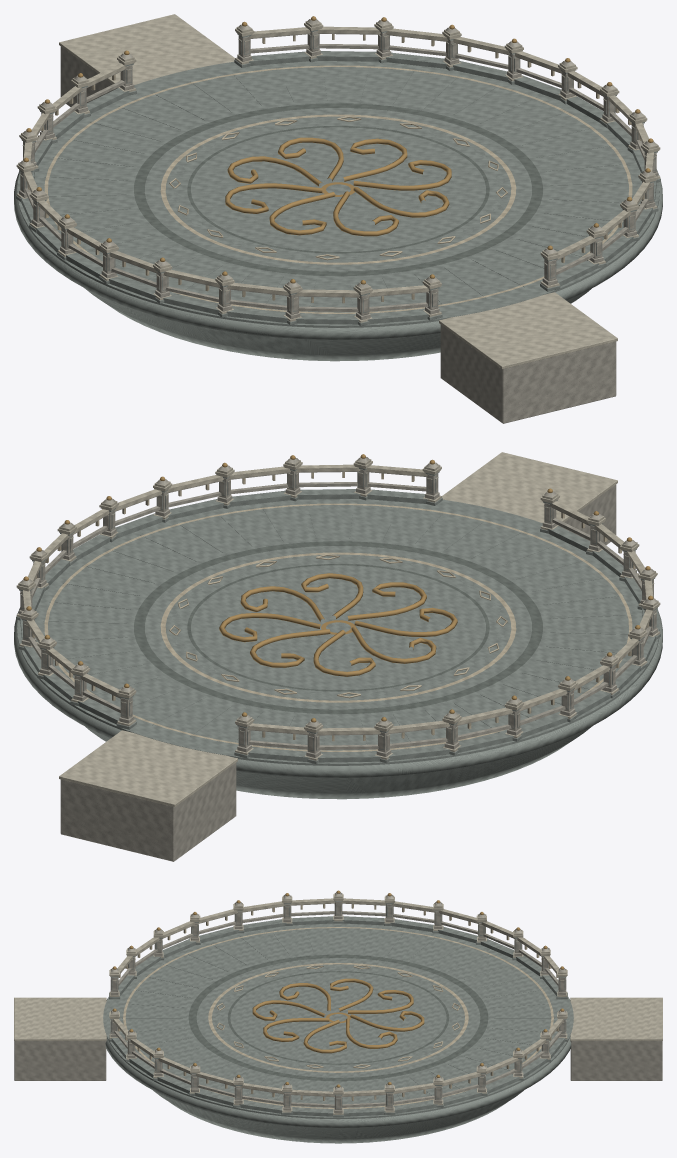
3 views of the same model, one above another, from view 1: azimuth 30°, elevation 25°; view 2: azimuth 150°, elevation 25°; view 3: azimuth 270°, elevation 25° (orthographic). The views are drawn at different scales.
Parts seen in each view (by area): view 1: C11_cool, C11_light, C11_stone, C11_joint, C11_relief, C11_motif; view 2: C11_cool, C11_light, C11_stone, C11_joint, C11_relief, C11_motif; view 3: C11_cool, C11_stone, C11_light, C11_joint, C11_relief, C11_motif.
Part boxes in pixels (x1=…): C11_cool: x1=14, y1=29, x2=662, y2=361; C11_light: x1=16, y1=14, x2=660, y2=369; C11_stone: x1=19, y1=19, x2=657, y2=423; C11_joint: x1=134, y1=103, x2=542, y2=276; C11_relief: x1=28, y1=34, x2=644, y2=313; C11_motif: x1=23, y1=16, x2=653, y2=284; C11_cool: x1=14, y1=467, x2=662, y2=799; C11_light: x1=16, y1=452, x2=660, y2=807; C11_stone: x1=19, y1=457, x2=657, y2=861; C11_joint: x1=134, y1=541, x2=542, y2=714; C11_relief: x1=32, y1=472, x2=648, y2=751; C11_motif: x1=23, y1=454, x2=653, y2=722; C11_cool: x1=103, y1=901, x2=573, y2=1143; C11_stone: x1=14, y1=892, x2=662, y2=1113; C11_light: x1=14, y1=893, x2=662, y2=1114; C11_joint: x1=188, y1=954, x2=488, y2=1081; C11_relief: x1=118, y1=904, x2=558, y2=1108; C11_motif: x1=112, y1=890, x2=564, y2=1087.
Size of the model in its own units: 18.79 by 3.21 by 25.64.
6 materials, 5 textured.
